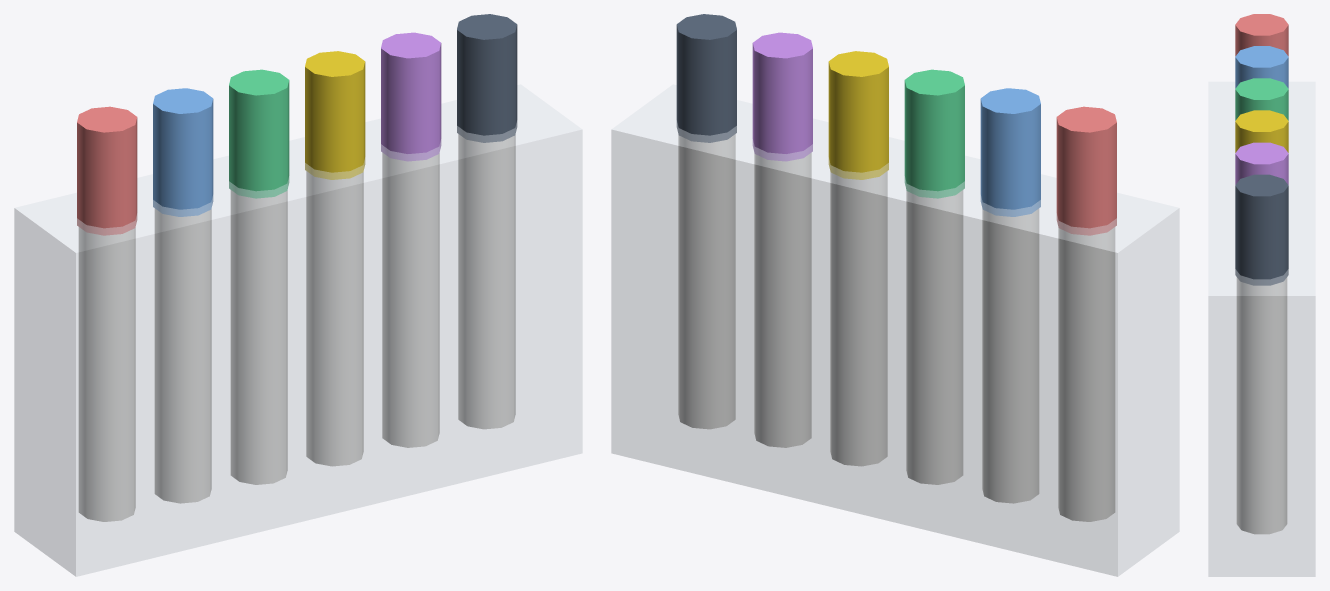
The model's file is ch5_prop_marker_set.glb.
3 renders of one model, left to right at view 1: azimuth 30°, elevation 25°; view 2: azimuth 150°, elevation 25°; view 3: azimuth 270°, elevation 25°, orthographic. The views are drawn at different scales.
Parts seen in each view (by area): view 1: ch5_prop_marker_set; view 2: ch5_prop_marker_set; view 3: ch5_prop_marker_set.
Part boxes in pixels (x1=…): ch5_prop_marker_set: x1=14, y1=14, x2=582, y2=576; ch5_prop_marker_set: x1=611, y1=14, x2=1179, y2=576; ch5_prop_marker_set: x1=1208, y1=14, x2=1315, y2=576.
Size of the model in its own units: 0.18 by 0.1425 by 0.038.
